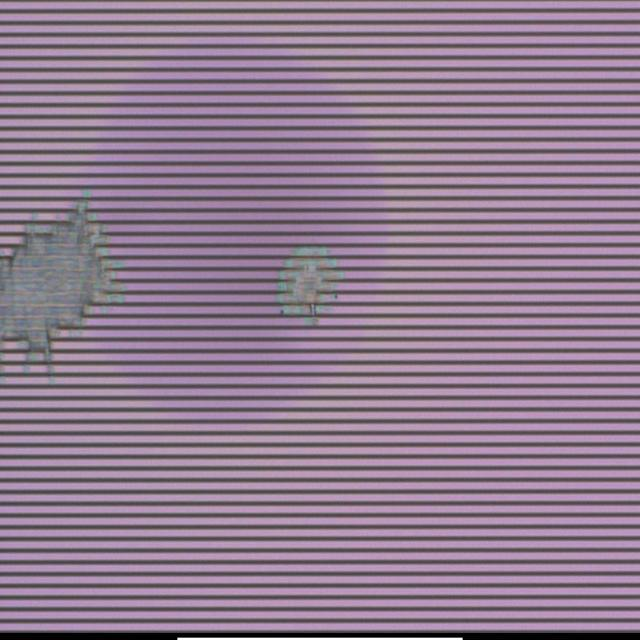03_intrusion: (0, 191, 119, 387), (276, 247, 342, 327)
